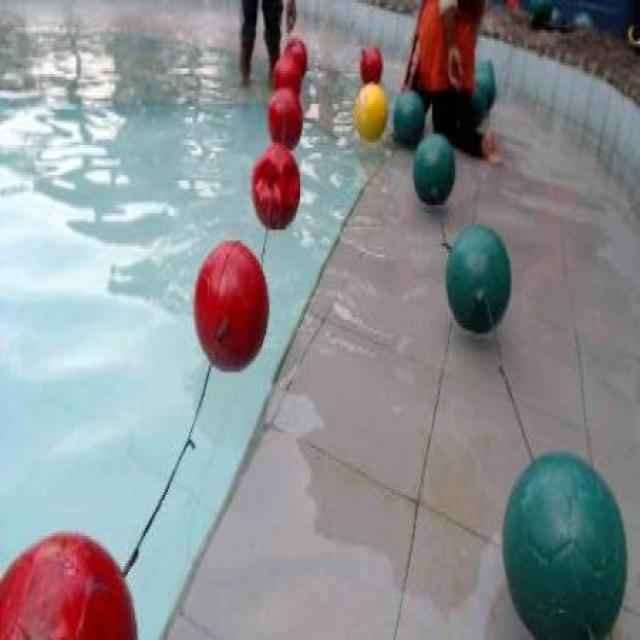buoy: (501, 450, 628, 638), (0, 529, 138, 636), (193, 240, 269, 373), (444, 224, 511, 334), (250, 141, 300, 232), (413, 132, 455, 206), (266, 85, 303, 150), (353, 83, 388, 142), (390, 92, 424, 143), (272, 54, 300, 100), (470, 67, 496, 114), (282, 37, 305, 78), (360, 45, 381, 86)
